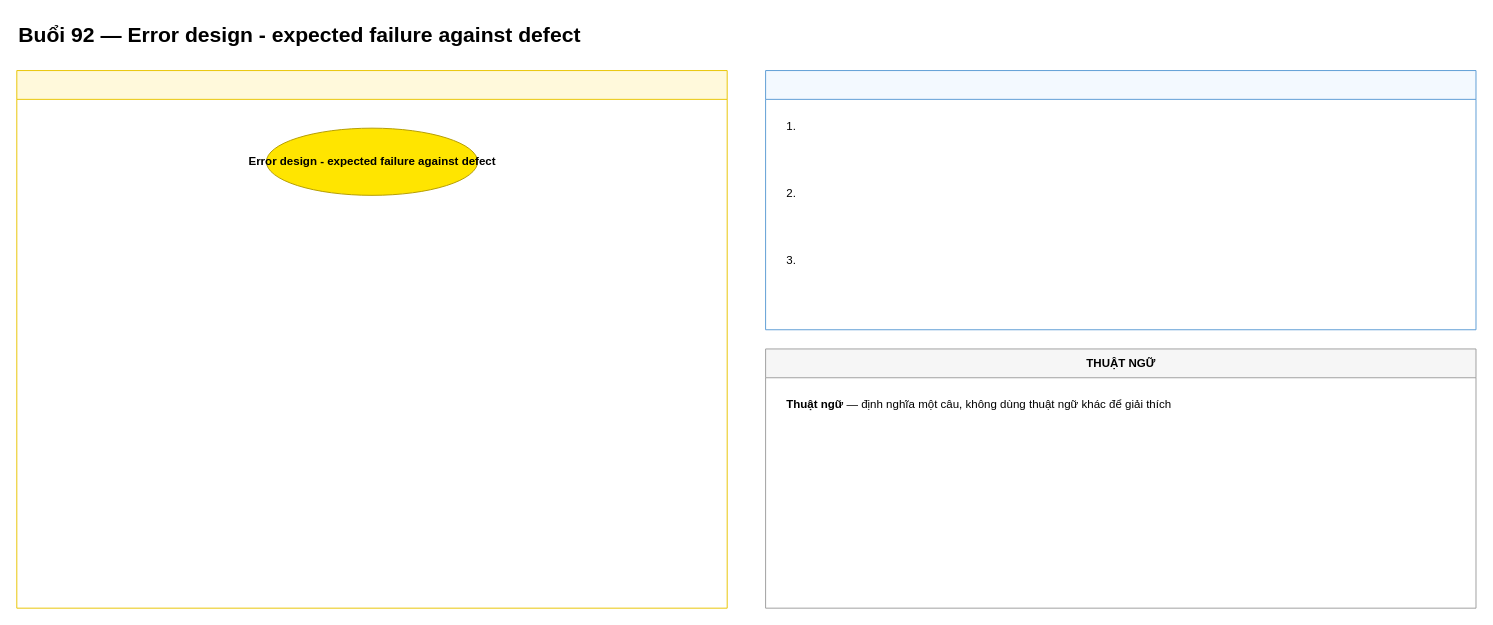
Image size: 1493x625. Some labels were removed from this diagram. Here are the shapes that lost their labels. From the top down, the box of each, then its label:
(765, 70, 1476, 330): KEY TAKEAWAY — ba điều phải nhớ
(16, 70, 727, 608): MINDMAP
